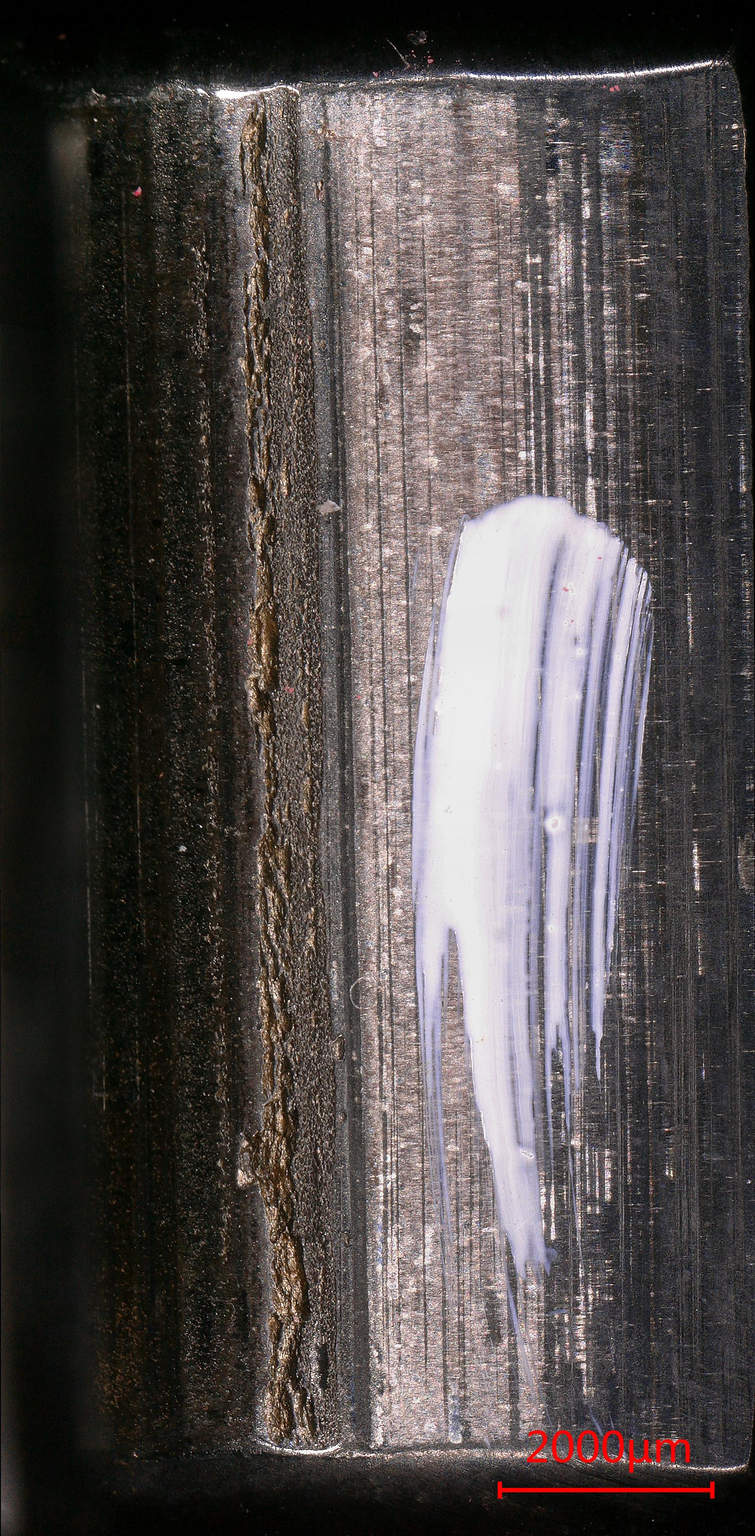Abrasion: (54, 88, 755, 1471)
